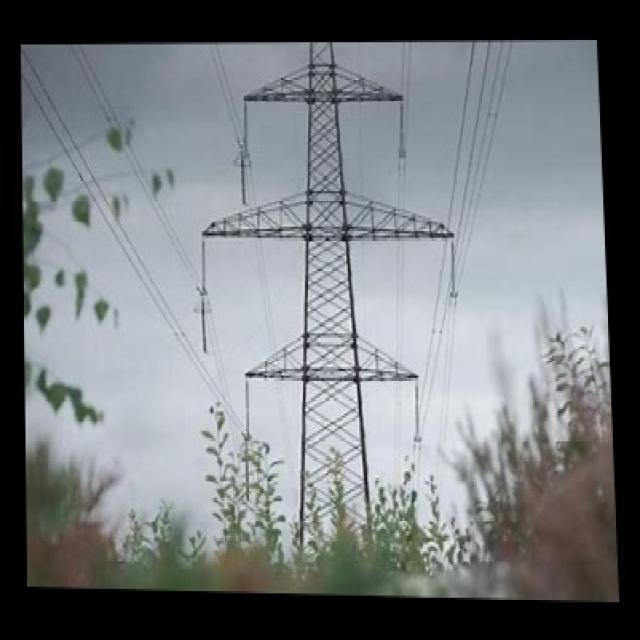utility poles: (207, 336, 452, 593)
